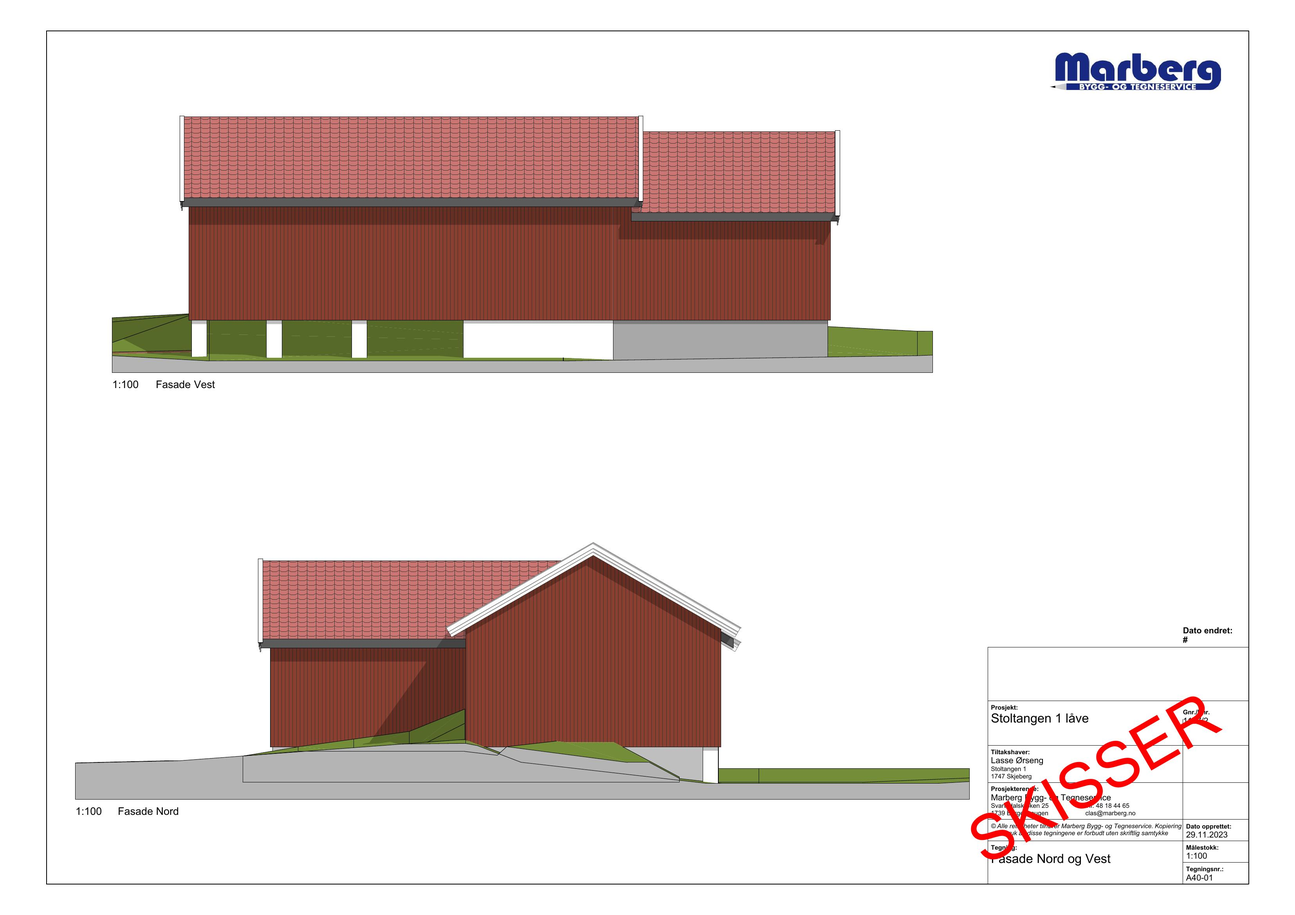fasade: (178, 113, 842, 359), (256, 540, 742, 786)
